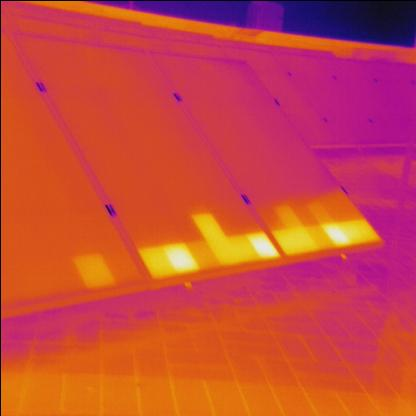hotspot: (65, 251, 115, 289), (164, 240, 194, 274), (189, 210, 223, 238), (245, 230, 276, 257), (321, 223, 345, 247)
